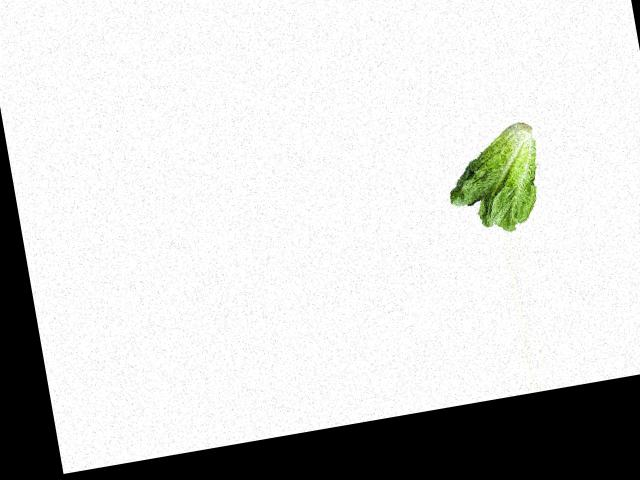lettuce: (436, 120, 553, 243)
